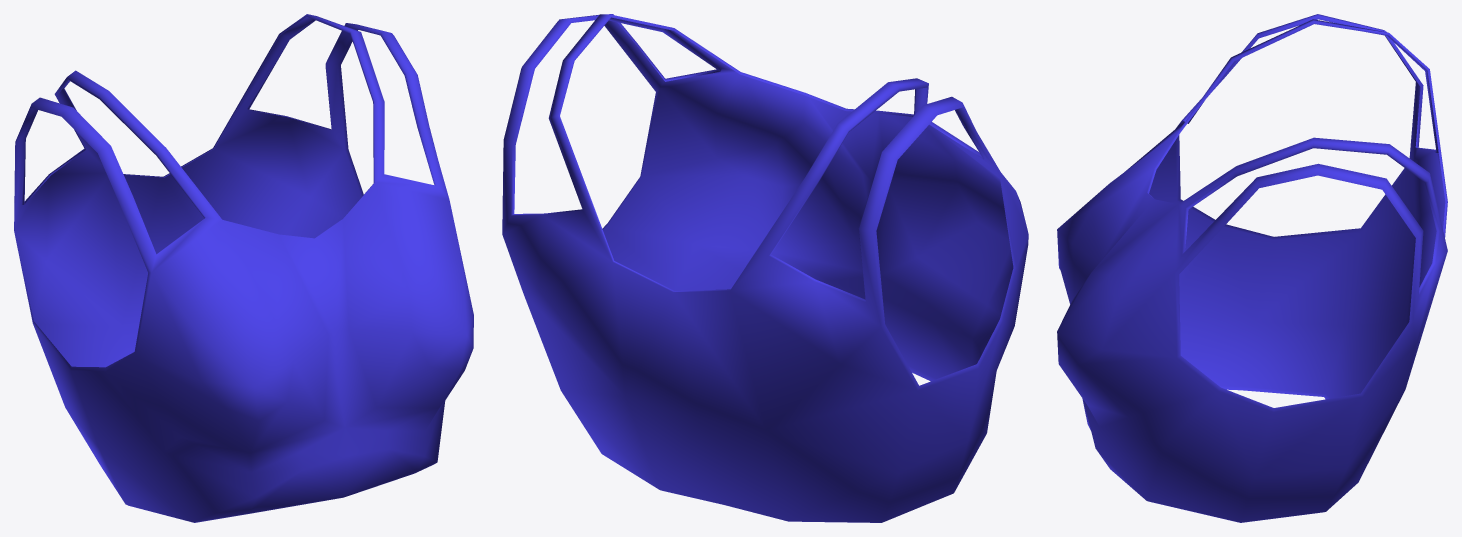
The model's file is Top.fbx.
The picture shows the model from 3 angles, left to right: view 1: azimuth 30°, elevation 25°; view 2: azimuth 150°, elevation 25°; view 3: azimuth 270°, elevation 25°; orthographic projection. The views are drawn at different scales.
Parts seen in each view (by area): view 1: Top; view 2: Top; view 3: Top.
Boxes of the visible parts, bbox=[...] form: Top: bbox=[14, 14, 473, 522]; Top: bbox=[502, 14, 1028, 522]; Top: bbox=[1057, 14, 1447, 522].
Bounding box in the file's own units: 29.07 × 29.73 × 27.85.
